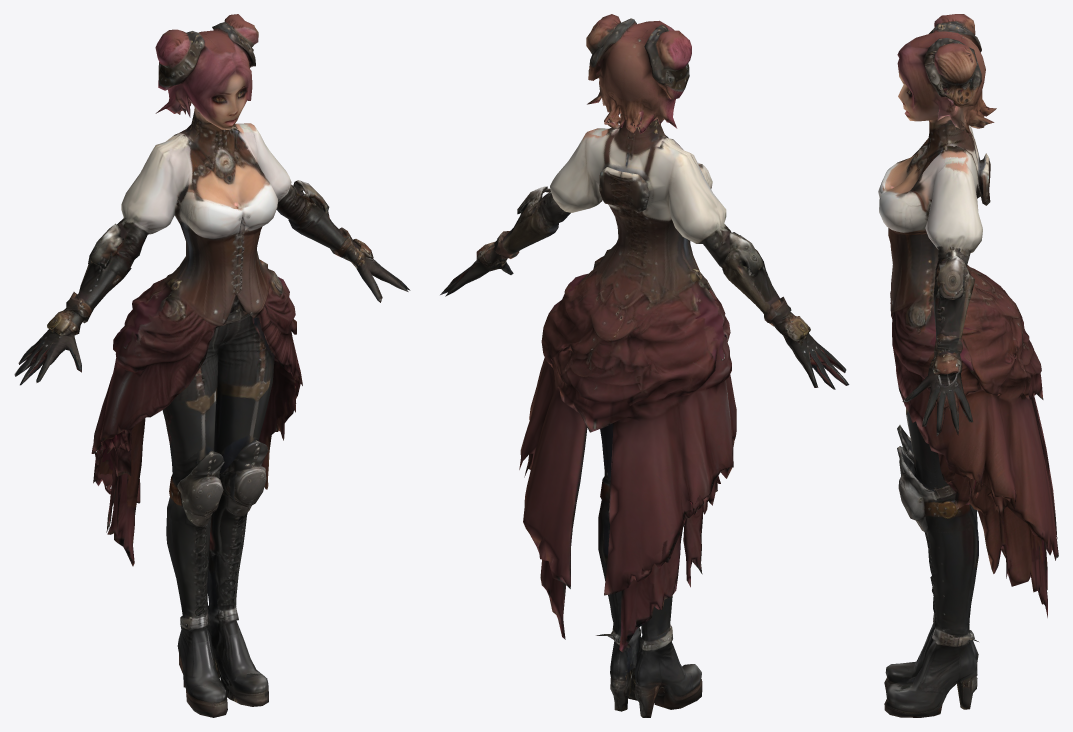
File: modelo4.glb
The picture shows the model from 3 angles, left to right: view 1: azimuth 30°, elevation 25°; view 2: azimuth 150°, elevation 25°; view 3: azimuth 270°, elevation 25°; orthographic projection. The views are drawn at different scales.
Size of the model in its own units: 1.23 by 2 by 0.4859.
1 material, 1 textured.
